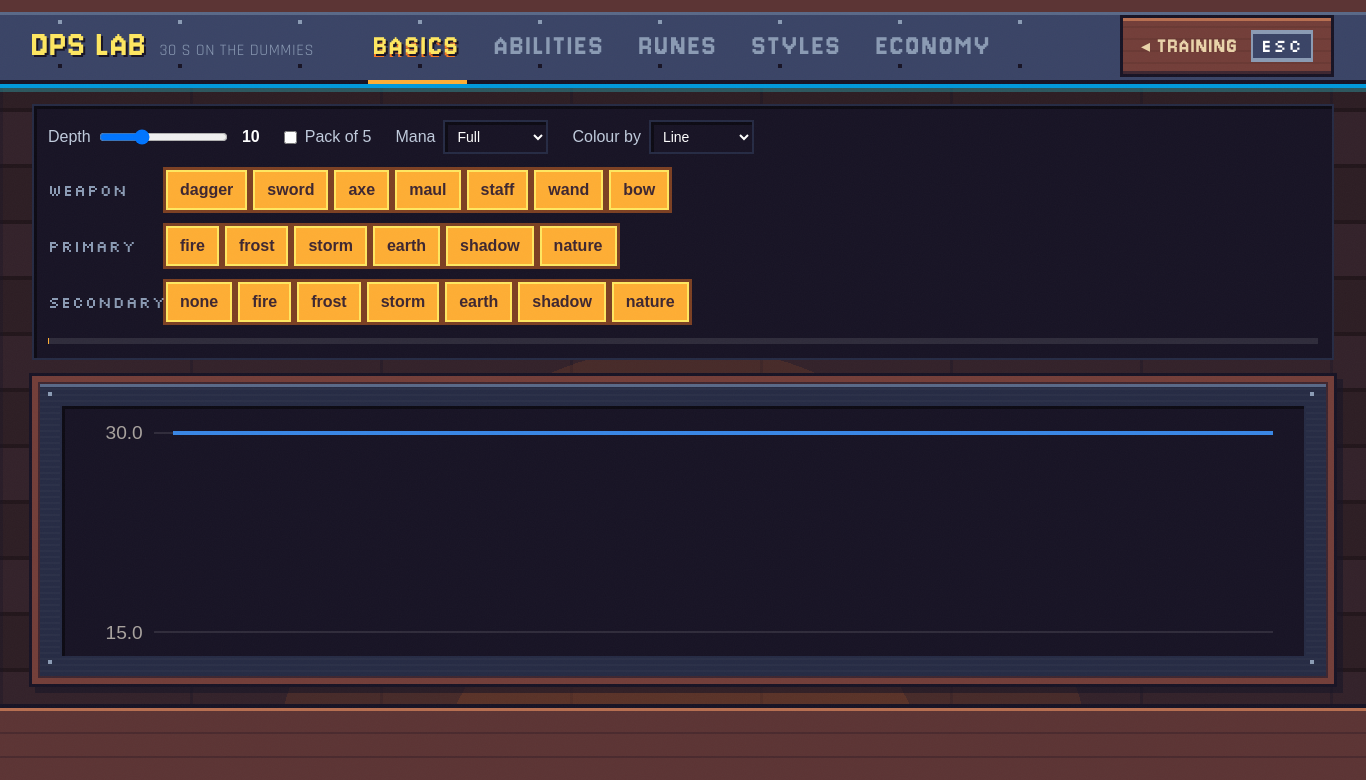
Scenario: DelveLab › the Runes view gives each row its ratio to its baseline (× none)
Expected: the text "× none" is not shown
Click the tab with test id "lab-tab-rune" at coordinates (679, 48), box [633,12,724,84]
(page scrolled)
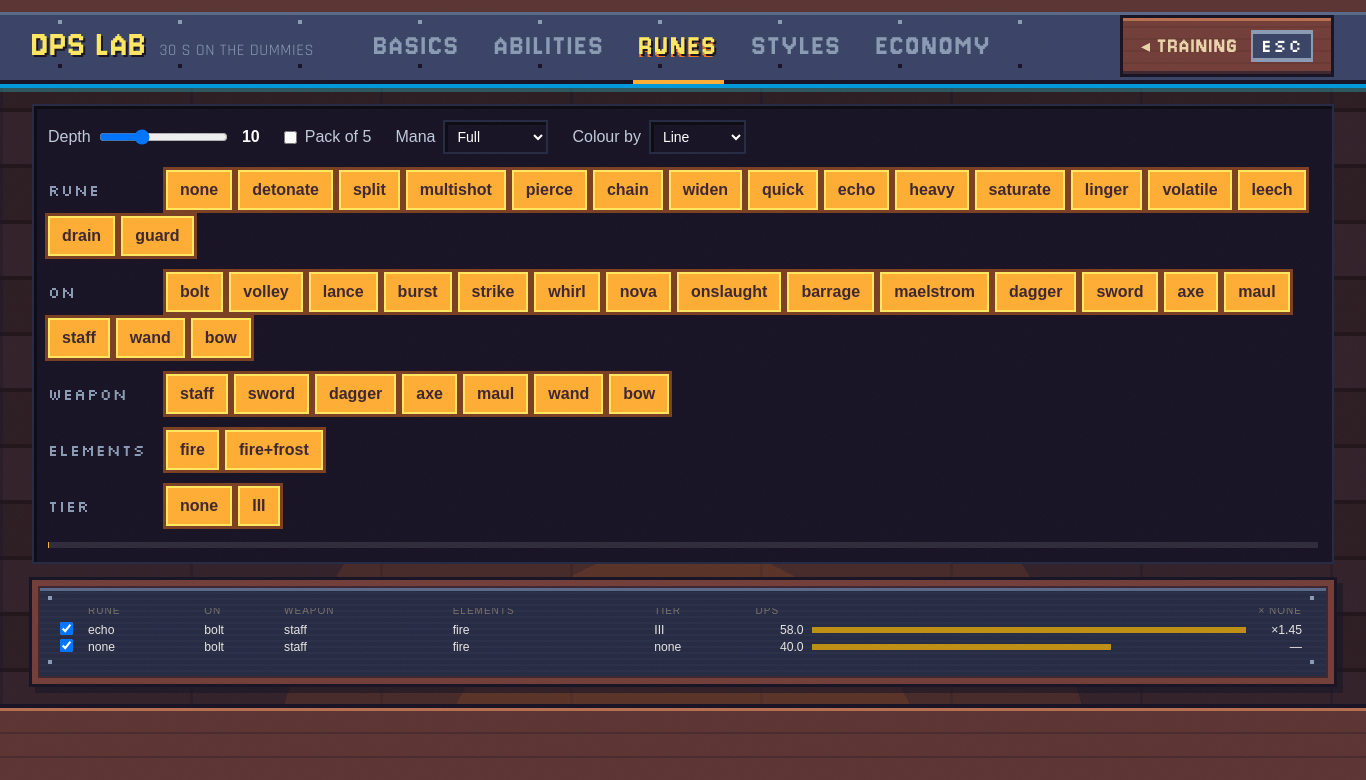
Result: the column heading "× none" is shown at [1250,608,1306,622]
Result: the cell with test id "lab-ratio" reads "×1.45" at [1271,623,1302,637]
Result: the cell with test id "lab-ratio" reads "—" at [1290,640,1302,654]
